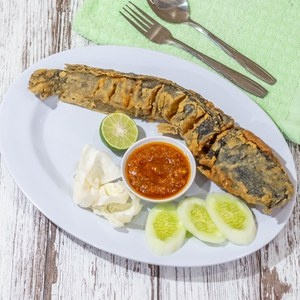pecel_lele: (8, 54, 243, 121)
